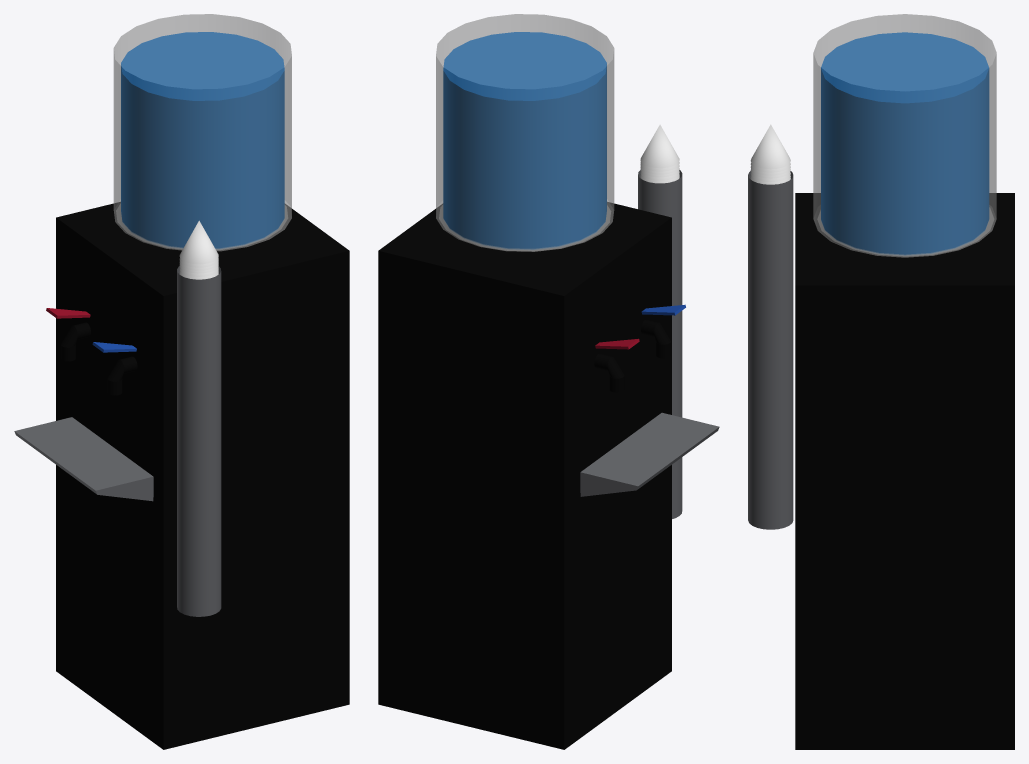
File: WaterCooler.fbx
The picture shows the model from 3 angles, left to right: view 1: azimuth 30°, elevation 25°; view 2: azimuth 150°, elevation 25°; view 3: azimuth 270°, elevation 25°; orthographic projection. The views are drawn at different scales.
Visible parts, largest first — view 1: WaterCooler, WaterJug, CupHolder, WaterTray, Cups, ColdWater, HotWater; view 2: WaterCooler, WaterJug, WaterTray, CupHolder, Cups, HotWater, ColdWater; view 3: WaterCooler, WaterJug, CupHolder, Cups.
Boxes of the visible parts, bbox=[...] form: WaterCooler: bbox=[56, 202, 349, 749]; WaterJug: bbox=[113, 14, 291, 251]; CupHolder: bbox=[177, 266, 221, 616]; WaterTray: bbox=[14, 417, 153, 501]; Cups: bbox=[179, 220, 218, 279]; ColdWater: bbox=[107, 356, 137, 395]; HotWater: bbox=[61, 322, 90, 361]; WaterCooler: bbox=[378, 202, 671, 749]; WaterJug: bbox=[436, 14, 614, 251]; WaterTray: bbox=[580, 412, 719, 496]; CupHolder: bbox=[638, 170, 682, 518]; Cups: bbox=[640, 124, 679, 183]; HotWater: bbox=[594, 353, 624, 392]; ColdWater: bbox=[641, 319, 670, 358]; WaterCooler: bbox=[795, 193, 1014, 749]; WaterJug: bbox=[813, 14, 996, 257]; CupHolder: bbox=[748, 171, 793, 529]; Cups: bbox=[750, 124, 790, 184].
Size of the model in its own units: 1.31 by 3.27 by 1.21.
